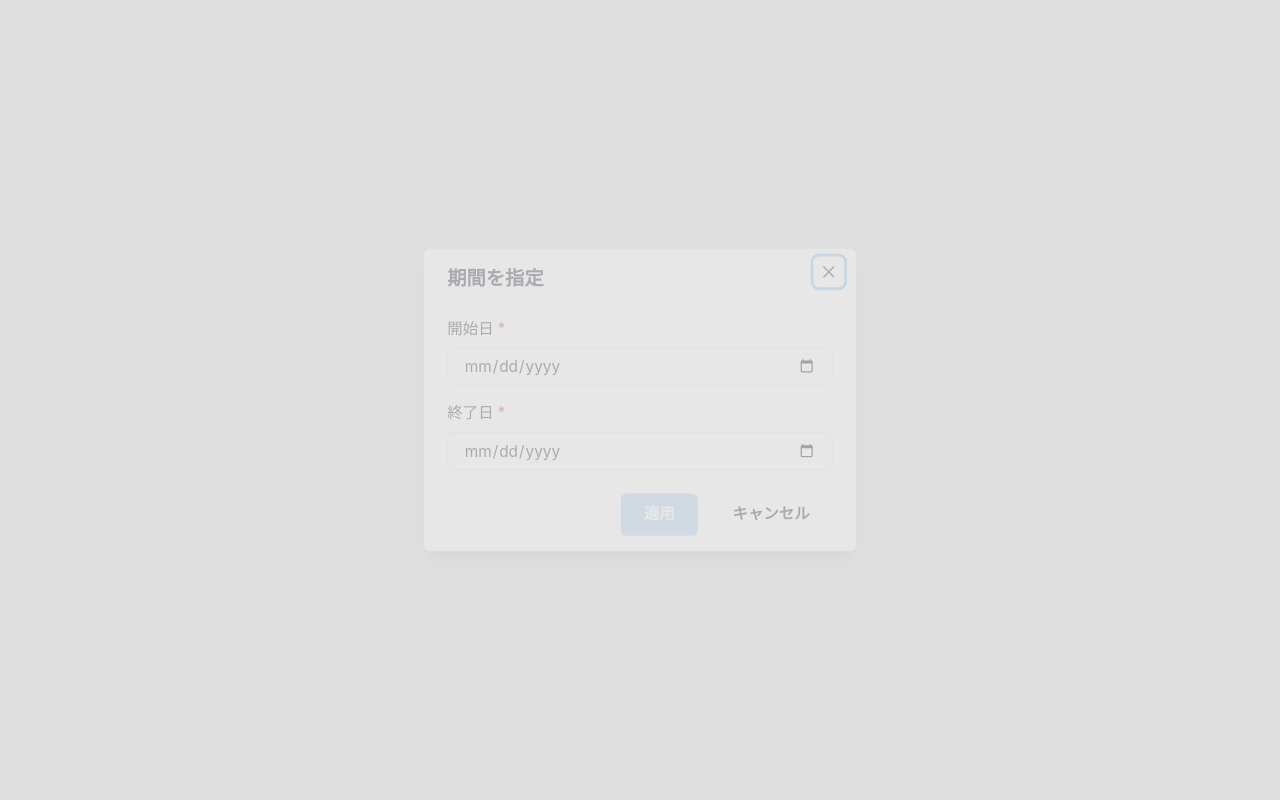
DateRangePickerModal › 不正な日付入力時にエラーが表示される
Check: the dialog is shown, box [424,249,856,551]
Type "2024-01-01" into the date field labelled "終了日*".
click(640, 451); type("2024-01-01")  # box [447,432,833,470]
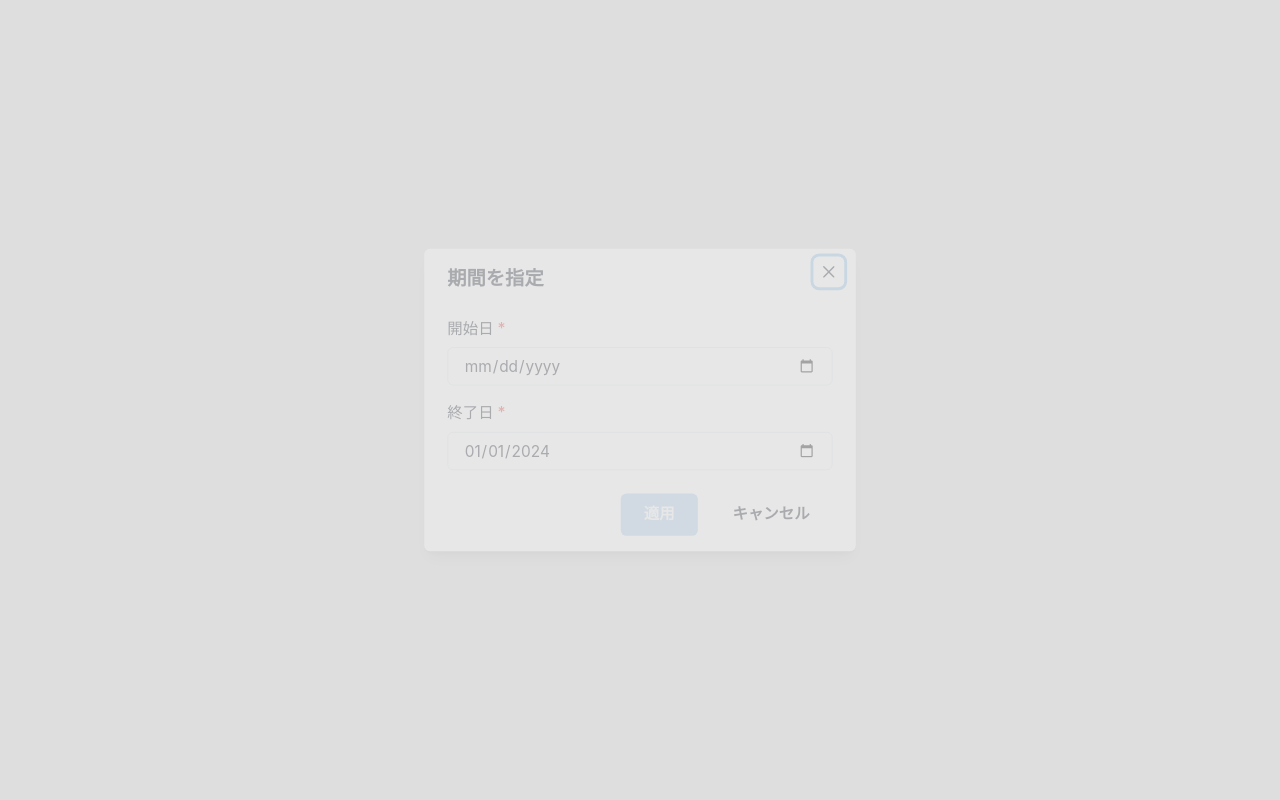
Type "2024-01-31" into the date field labelled "開始日*".
click(640, 366); type("2024-01-31")  # box [447,347,833,386]
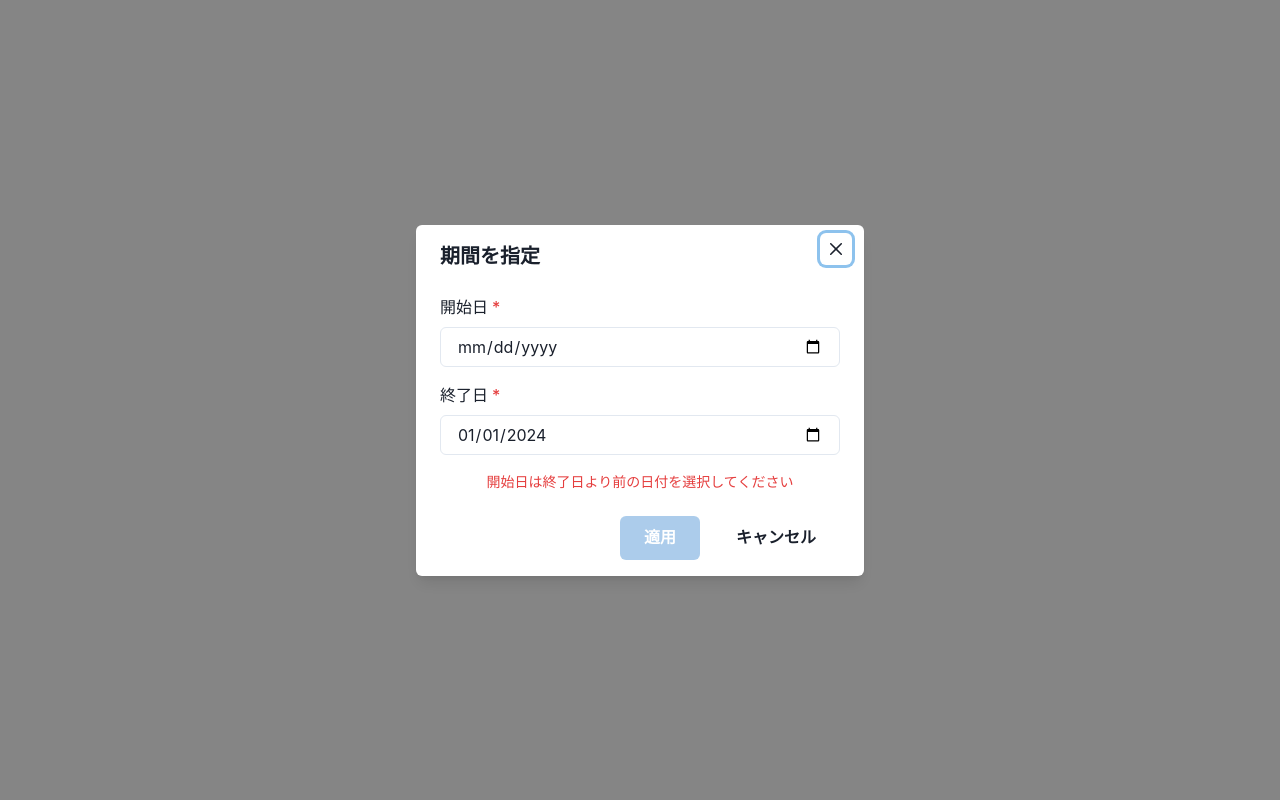
Check: the message reads "開始日は終了日より前の日付を選択してください", box [486,472,793,490]
